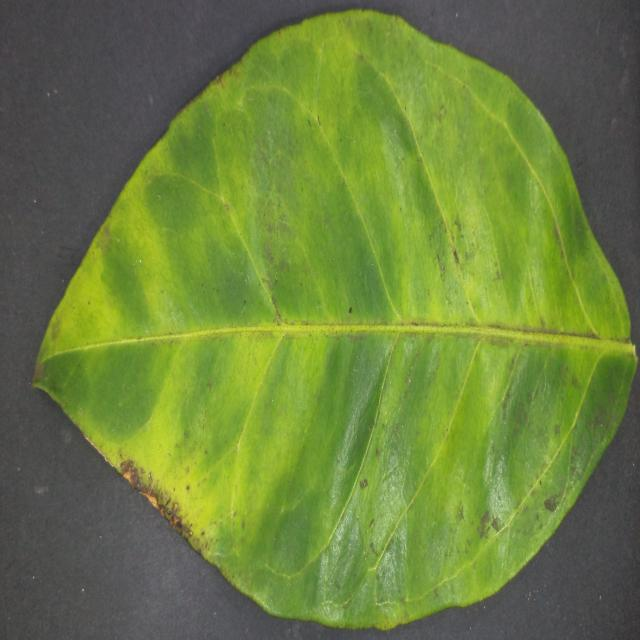greening: (33, 11, 640, 627)
